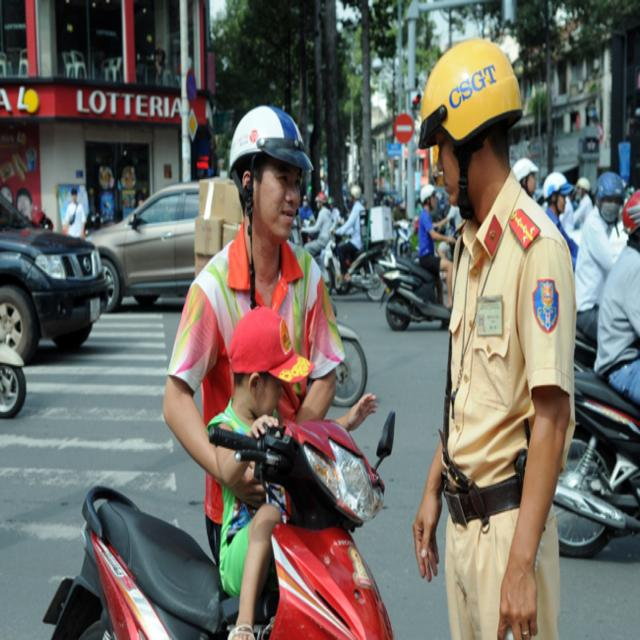1-2-helmet: (418, 39, 523, 151), (228, 105, 314, 180)
Cap: (229, 305, 315, 382)
